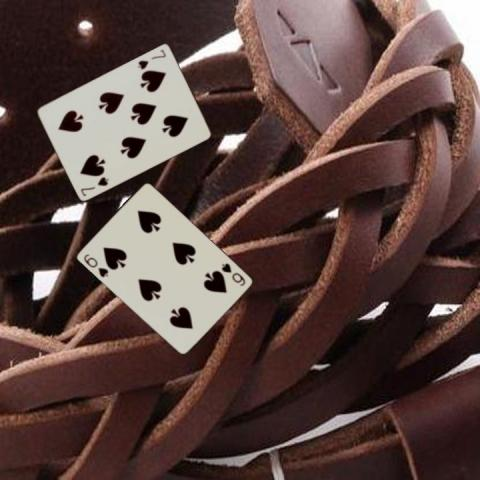6s: (80, 251, 109, 279), (218, 260, 247, 287)
7s: (135, 46, 167, 71), (77, 174, 110, 198)
